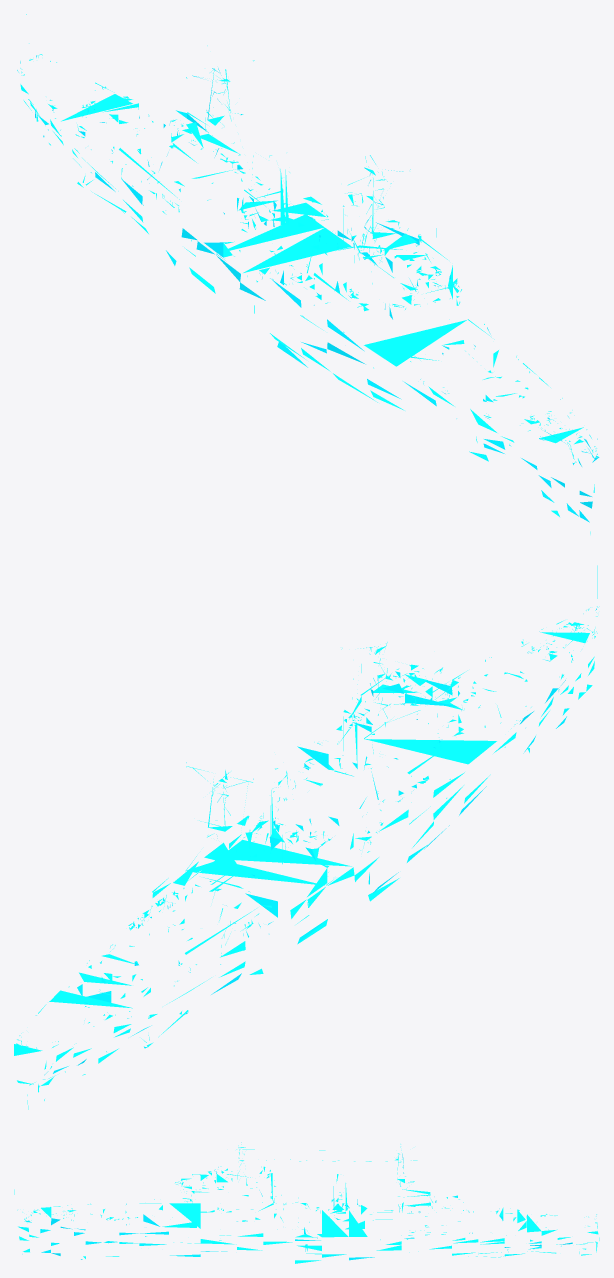
Rendered from STPatric_Tiger.glb.
The picture shows the model from 3 angles, top to bottom: view 1: azimuth 30°, elevation 25°; view 2: azimuth 150°, elevation 25°; view 3: azimuth 270°, elevation 25°; orthographic projection. The views are drawn at different scales.
Size of the model in its own units: 1.34 by 2.59 by 11.28.
